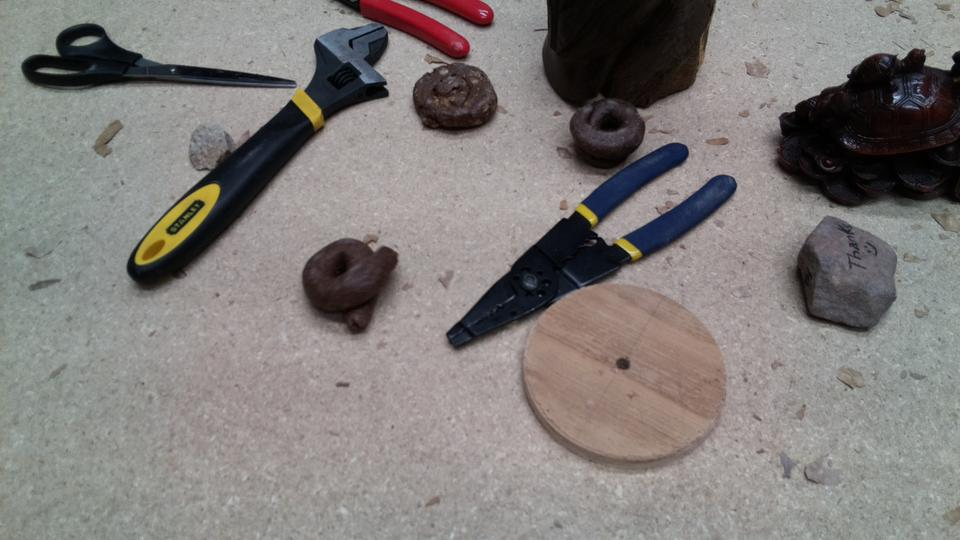poop: (299, 233, 403, 335), (566, 91, 648, 171), (410, 63, 499, 135)
